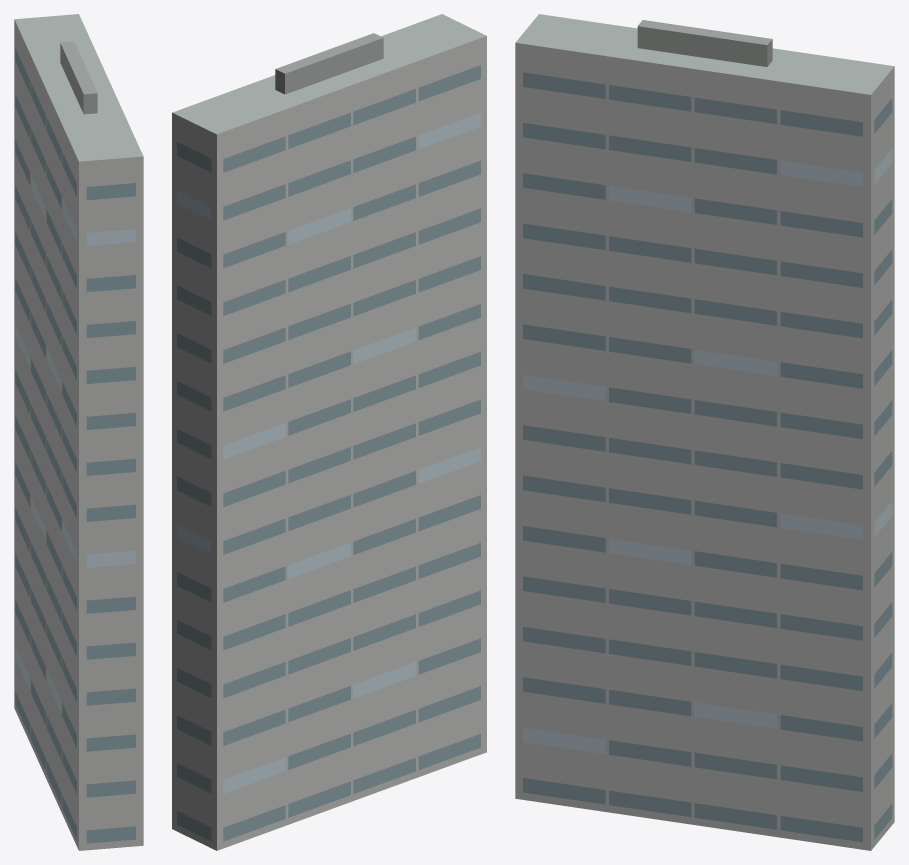
The model's file is fallback-jamsil-els-152.glb.
3 views of the same model, side by side, from view 1: azimuth 30°, elevation 25°; view 2: azimuth 150°, elevation 25°; view 3: azimuth 270°, elevation 25° (orthographic). The views are drawn at different scales.
Parts seen in each view (by area): view 1: fallback-jamsil-els-152; view 2: fallback-jamsil-els-152; view 3: fallback-jamsil-els-152.
Part boxes in pixels (x1=…): fallback-jamsil-els-152: x1=14, y1=14, x2=143, y2=850; fallback-jamsil-els-152: x1=172, y1=14, x2=486, y2=850; fallback-jamsil-els-152: x1=515, y1=14, x2=894, y2=850.
Bounding box in the file's own units: 18.98 × 85 × 37.56.
